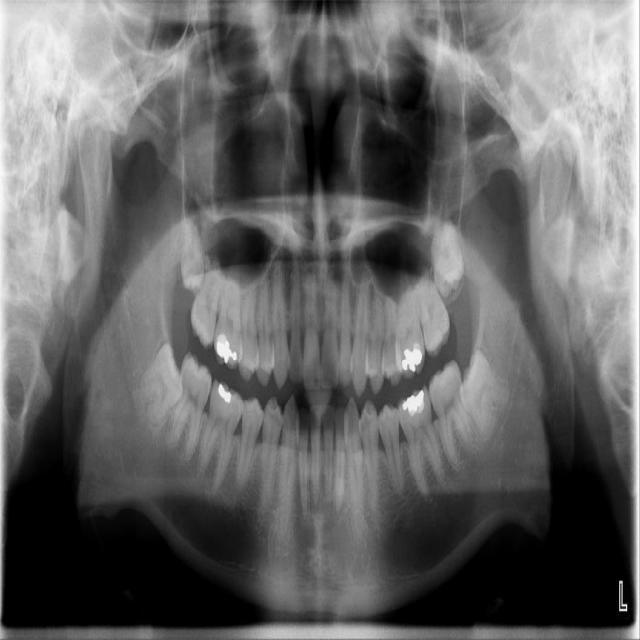3M ESPE Implant: (177, 215, 206, 293)
52: (390, 384, 444, 441), (198, 378, 251, 433), (395, 324, 426, 379), (213, 320, 244, 371)
73: (608, 577, 614, 588)
BioHorizons Implant: (410, 265, 456, 359)
BioLife Implant: (429, 197, 466, 299)
Biomet 3i Implant: (438, 348, 526, 442)
Blue Sky Bio Implant: (423, 358, 478, 469)
Caries: (186, 255, 225, 351)
Implant: (165, 350, 217, 460)
Keystone Dental Implant: (122, 341, 203, 428)
